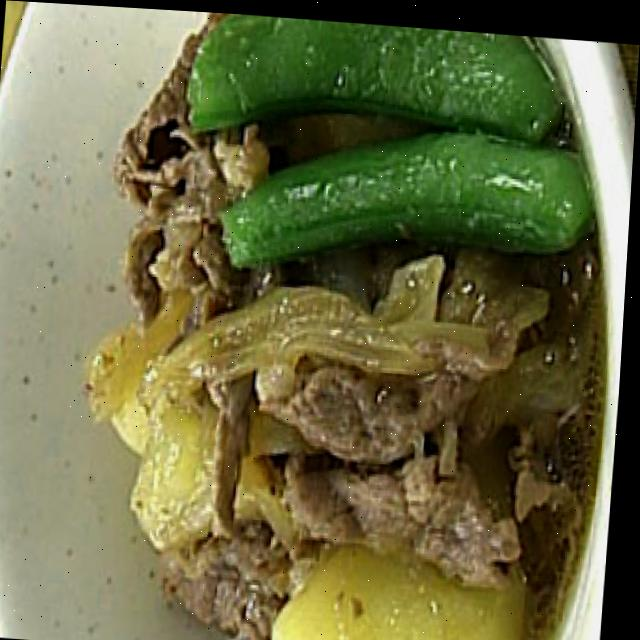牛肉菜式: (49, 4, 639, 640)
